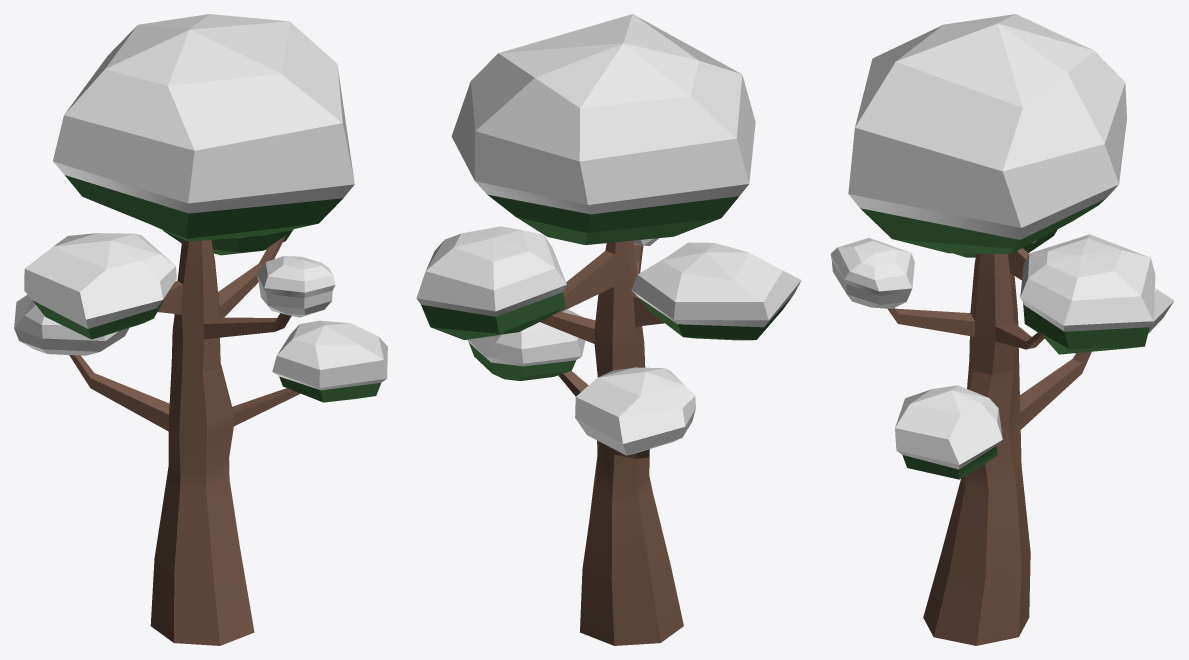
Rendered from Tree_2.fbx.
3 views of the same model, side by side, from view 1: azimuth 30°, elevation 25°; view 2: azimuth 150°, elevation 25°; view 3: azimuth 270°, elevation 25° (orthographic).
Visible parts, largest first — view 1: pCylinder11; view 2: pCylinder11; view 3: pCylinder11.
Part boxes in pixels (<box>): pCylinder11: <box>14,14,387,645</box>; pCylinder11: <box>416,14,801,645</box>; pCylinder11: <box>830,14,1174,645</box>.
Bounding box in the file's own units: 7.1 × 12.07 × 6.22.
